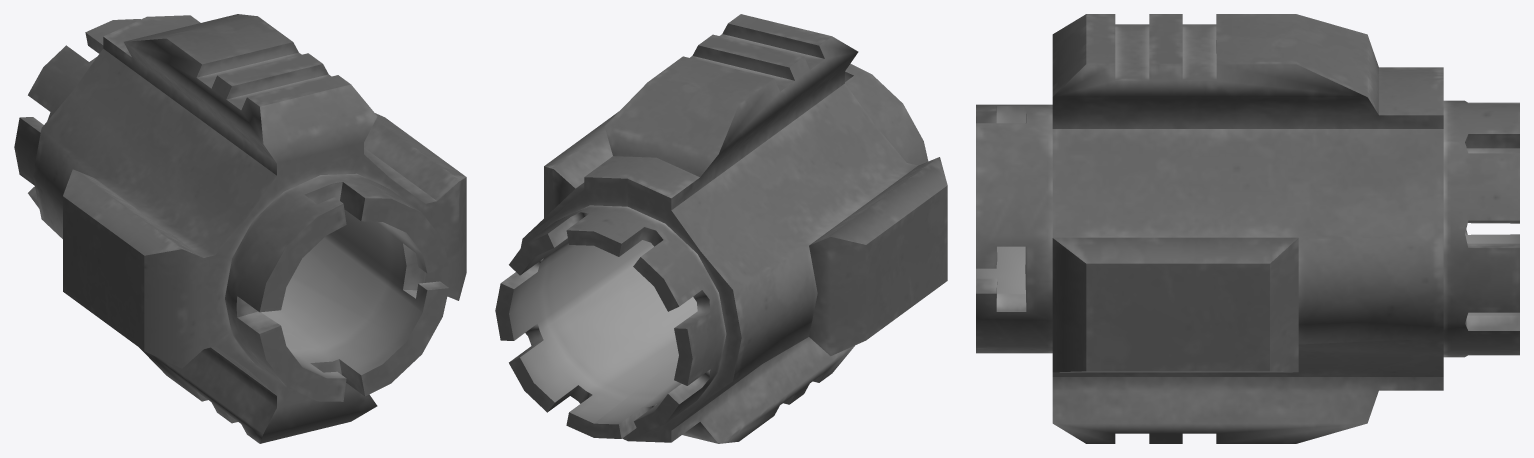
File: IG_Acc_Muzzle_AR_REC_4.fbx
3 renders of one model, left to right at view 1: azimuth 30°, elevation 25°; view 2: azimuth 150°, elevation 25°; view 3: azimuth 270°, elevation 25°, orthographic. The views are drawn at different scales.
Parts seen in each view (by area): view 1: Muzzle_AR_REC_4; view 2: Muzzle_AR_REC_4; view 3: Muzzle_AR_REC_4.
Part boxes in pixels (x1,y1,x2,y2): Muzzle_AR_REC_4: (14,14,466,443); Muzzle_AR_REC_4: (495,14,947,443); Muzzle_AR_REC_4: (976,14,1519,443).
Bounding box in the file's own units: 0.0912 × 0.0912 × 0.1184.
